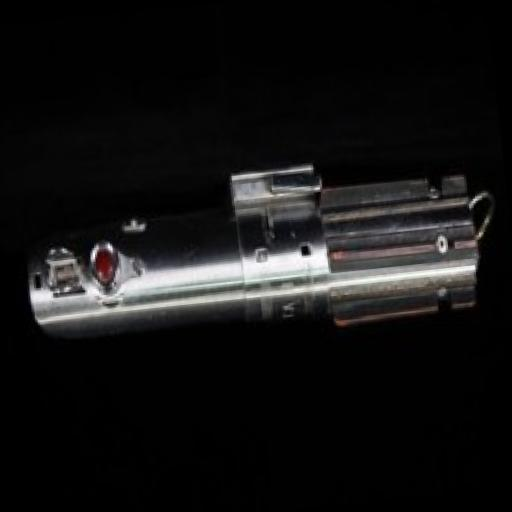lightsaber: (0, 123, 497, 374)
